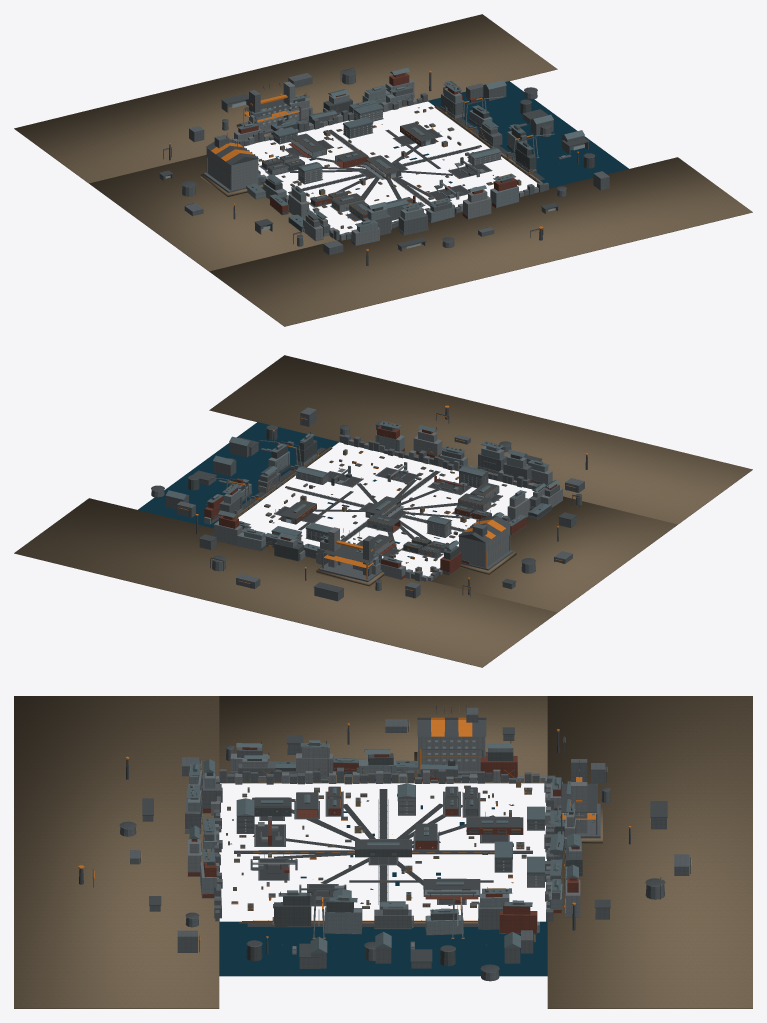
The model's file is souko-lod0.glb.
3 views of the same model, one above another, from view 1: azimuth 30°, elevation 25°; view 2: azimuth 150°, elevation 25°; view 3: azimuth 270°, elevation 25° (orthographic). The views are drawn at different scales.
Visible parts, largest first — view 1: HB_souko_LOD0_terrain, HB_souko_LOD0_wall_alt, HB_souko_LOD0_trim, HB_souko_LOD0_water, HB_souko_LOD0_wall, HB_souko_LOD0_roof, HB_souko_LOD0_wall_cool, HB_souko_LOD0_road, HB_souko_LOD0_wall_weathered, HB_souko_LOD0_wall_warm, HB_souko_LOD0_LANDMARK_1_wall, HB_souko_LOD0_obstacle; view 2: HB_souko_LOD0_terrain, HB_souko_LOD0_wall_alt, HB_souko_LOD0_trim, HB_souko_LOD0_wall, HB_souko_LOD0_water, HB_souko_LOD0_roof, HB_souko_LOD0_road, HB_souko_LOD0_wall_cool, HB_souko_LOD0_wall_weathered, HB_souko_LOD0_wall_warm, HB_souko_LOD0_LANDMARK_1_wall, HB_souko_LOD0_LANDMARK_0_wall_alt (+2 smaller); view 3: HB_souko_LOD0_terrain, HB_souko_LOD0_wall_alt, HB_souko_LOD0_water, HB_souko_LOD0_trim, HB_souko_LOD0_roof, HB_souko_LOD0_road, HB_souko_LOD0_wall, HB_souko_LOD0_wall_weathered, HB_souko_LOD0_wall_cool, HB_souko_LOD0_wall_warm, HB_souko_LOD0_LANDMARK_1_wall, HB_souko_LOD0_obstacle (+6 smaller).
Part boxes in pixels (left/top/right/bottom): HB_souko_LOD0_terrain: left=14, top=14, right=752, bottom=326; HB_souko_LOD0_wall_alt: left=159, top=73, right=609, bottom=255; HB_souko_LOD0_trim: left=159, top=68, right=595, bottom=265; HB_souko_LOD0_water: left=275, top=81, right=628, bottom=189; HB_souko_LOD0_wall: left=232, top=78, right=565, bottom=245; HB_souko_LOD0_roof: left=229, top=68, right=584, bottom=226; HB_souko_LOD0_wall_cool: left=250, top=88, right=554, bottom=232; HB_souko_LOD0_road: left=260, top=107, right=544, bottom=221; HB_souko_LOD0_wall_weathered: left=258, top=98, right=595, bottom=231; HB_souko_LOD0_wall_warm: left=238, top=72, right=519, bottom=220; HB_souko_LOD0_LANDMARK_1_wall: left=206, top=148, right=258, bottom=190; HB_souko_LOD0_obstacle: left=164, top=69, right=542, bottom=234; HB_souko_LOD0_terrain: left=14, top=355, right=752, bottom=667; HB_souko_LOD0_wall_alt: left=151, top=407, right=584, bottom=601; HB_souko_LOD0_trim: left=151, top=408, right=587, bottom=598; HB_souko_LOD0_wall: left=214, top=429, right=562, bottom=581; HB_souko_LOD0_water: left=138, top=422, right=458, bottom=557; HB_souko_LOD0_roof: left=165, top=421, right=559, bottom=563; HB_souko_LOD0_road: left=242, top=447, right=502, bottom=563; HB_souko_LOD0_wall_cool: left=204, top=434, right=548, bottom=565; HB_souko_LOD0_wall_weathered: left=188, top=425, right=551, bottom=560; HB_souko_LOD0_wall_warm: left=204, top=425, right=556, bottom=578; HB_souko_LOD0_LANDMARK_1_wall: left=459, top=526, right=510, bottom=568; HB_souko_LOD0_LANDMARK_0_wall_alt: left=319, top=535, right=382, bottom=582; HB_souko_LOD0_terrain: left=14, top=696, right=752, bottom=1008; HB_souko_LOD0_wall_alt: left=120, top=719, right=689, bottom=981; HB_souko_LOD0_water: left=219, top=805, right=547, bottom=976; HB_souko_LOD0_trim: left=79, top=720, right=690, bottom=972; HB_souko_LOD0_roof: left=186, top=740, right=580, bottom=952; HB_souko_LOD0_road: left=230, top=789, right=532, bottom=926; HB_souko_LOD0_wall: left=185, top=744, right=580, bottom=950; HB_souko_LOD0_wall_weathered: left=206, top=748, right=582, bottom=966; HB_souko_LOD0_wall_cool: left=188, top=748, right=581, bottom=938; HB_souko_LOD0_wall_warm: left=188, top=747, right=579, bottom=933; HB_souko_LOD0_LANDMARK_1_wall: left=418, top=736, right=485, bottom=771; HB_souko_LOD0_obstacle: left=91, top=722, right=689, bottom=941.
Size of the model in its own units: 756 by 73.86 by 756.
Materials: 15 (12 with a texture image).
